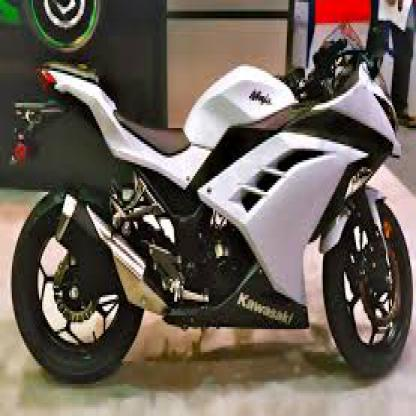Motorcycle: (7, 16, 414, 381)
